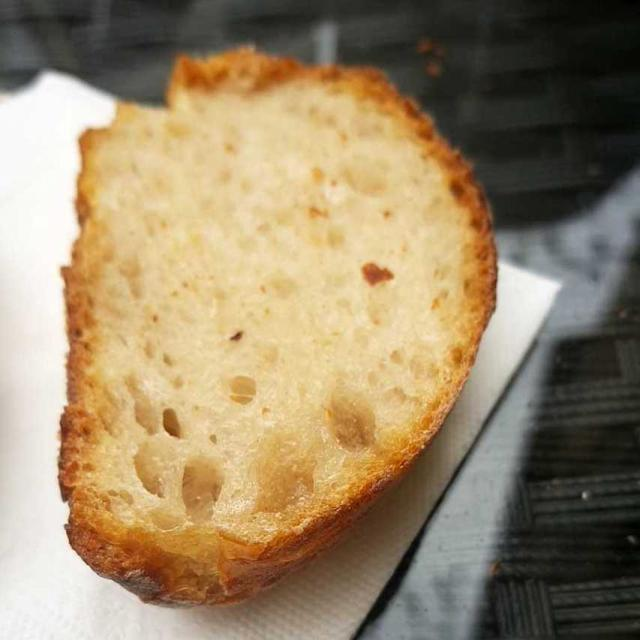bread: (62, 57, 484, 600)
